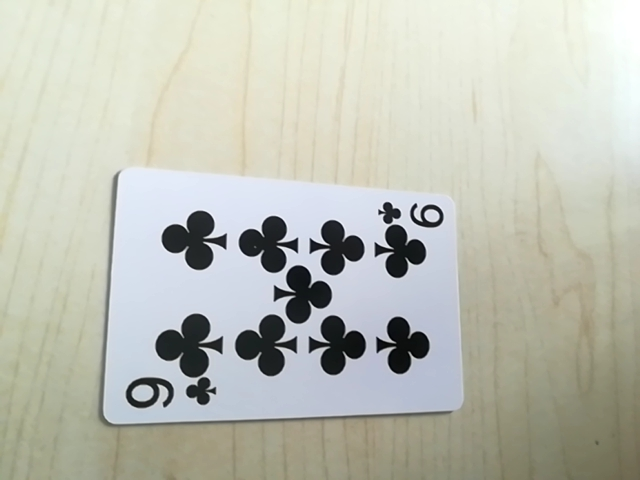mh 9: (117, 372, 223, 418), (377, 195, 447, 230)
